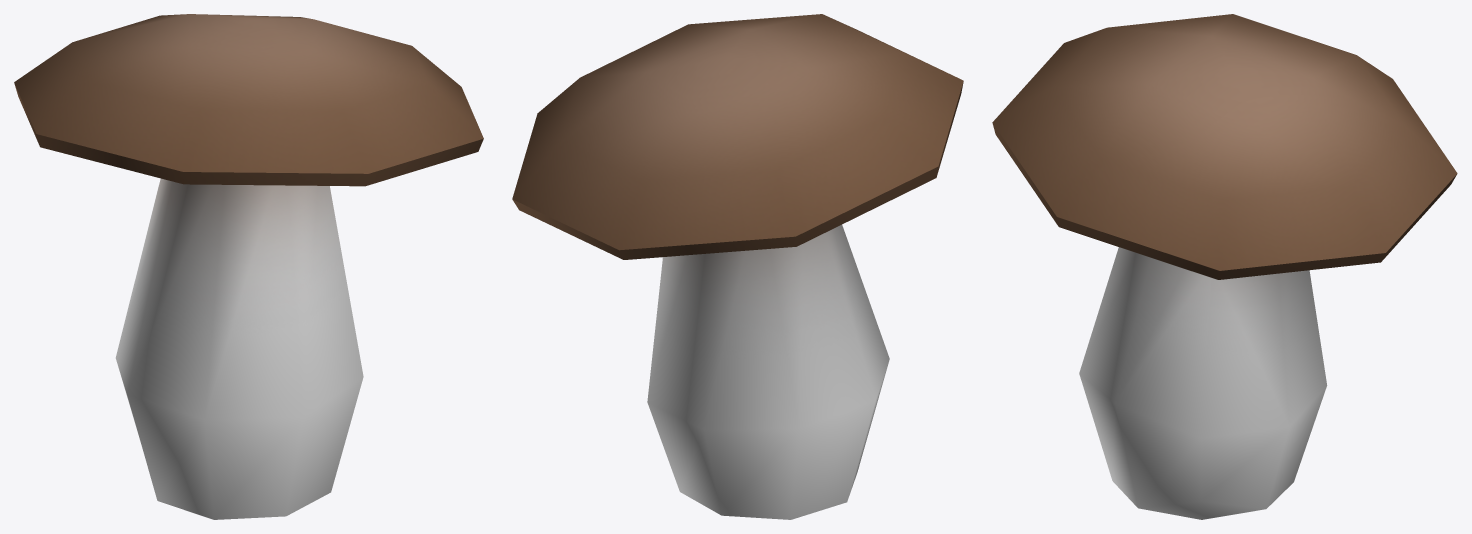
The model's file is FOD0110014.fbx.
3 views of the same model, side by side, from view 1: azimuth 30°, elevation 25°; view 2: azimuth 150°, elevation 25°; view 3: azimuth 270°, elevation 25° (orthographic). The views are drawn at different scales.
Parts seen in each view (by area): view 1: smFOD0110014; view 2: smFOD0110014; view 3: smFOD0110014.
Boxes of the visible parts, left/top/right/bottom form: smFOD0110014: left=14, top=14, right=483, bottom=519; smFOD0110014: left=512, top=14, right=963, bottom=519; smFOD0110014: left=992, top=14, right=1457, bottom=519.
Size of the model in its own units: 7 by 7.08 by 7.
1 material, 1 textured.
